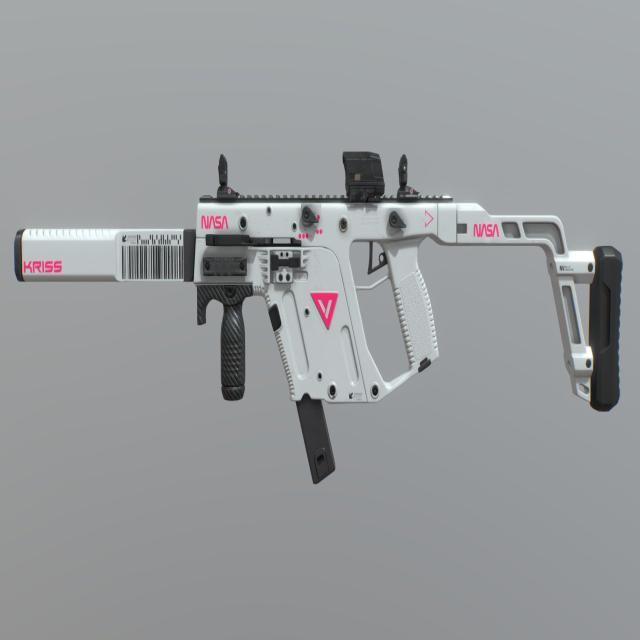SMG: (12, 152, 625, 485)
